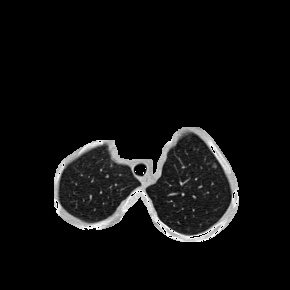PN: (212, 163, 218, 169)
